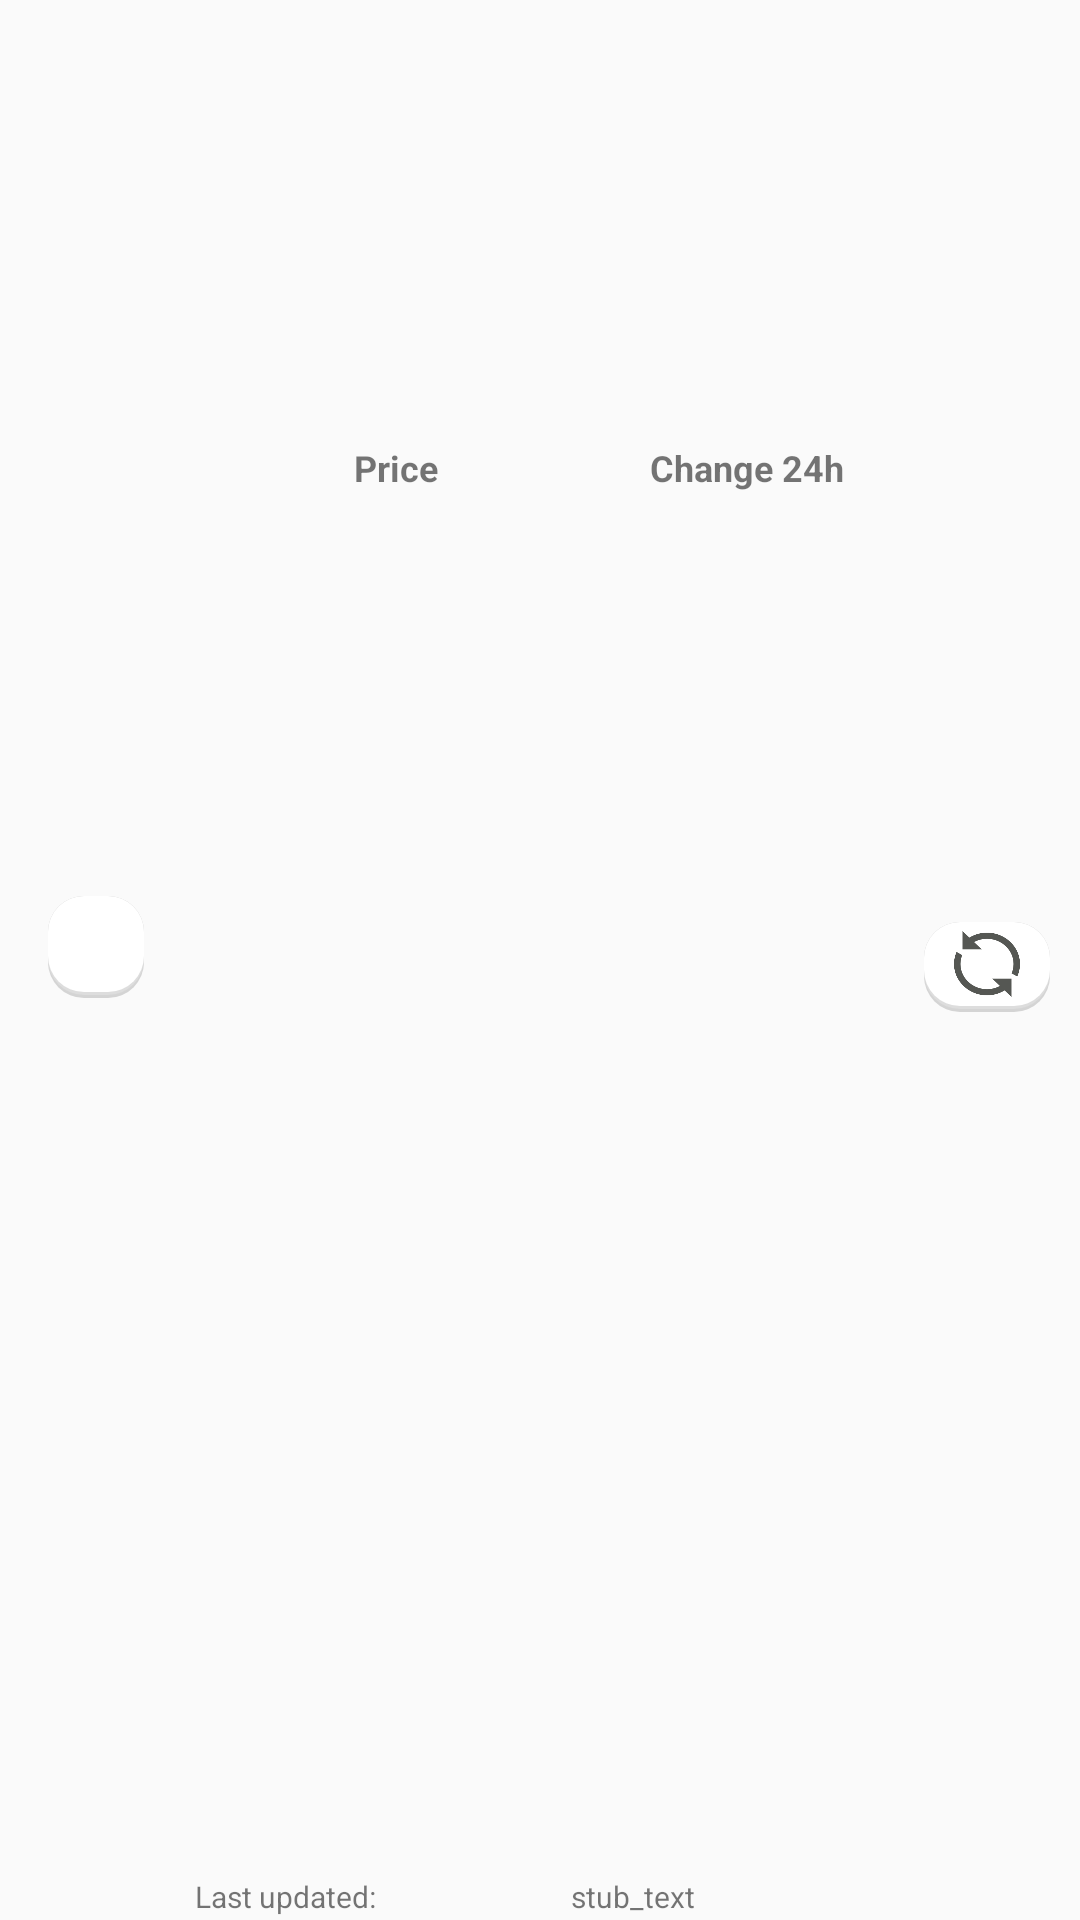

Icon click points for this 1080w x 1920h phone screenshot, format (x=x, y=y):
refresh widget: (x=987, y=971)
